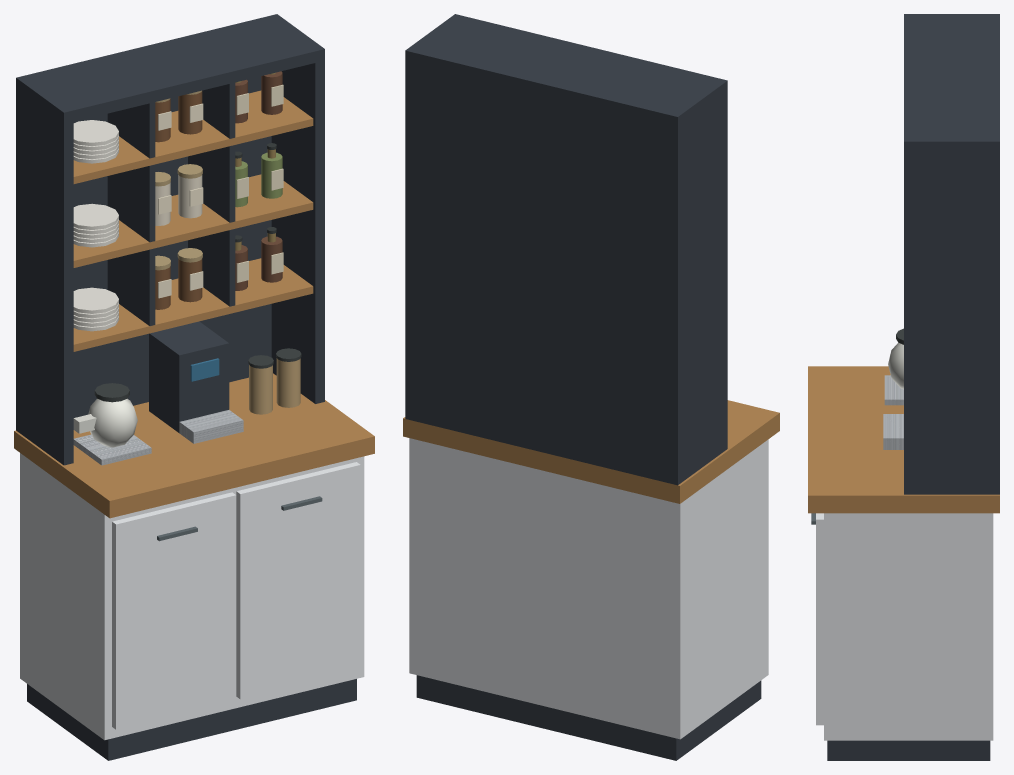
File: shelf-cafe-backbar.glb
3 renders of one model, left to right at view 1: azimuth 30°, elevation 25°; view 2: azimuth 150°, elevation 25°; view 3: azimuth 270°, elevation 25°, orthographic. The views are drawn at different scales.
Parts seen in each view (by area): view 1: backbar-lower-door (×2), backbar-side (×2), backbar-cabinet, backbar-worktop, backbar-stock-deck (×3), backbar-cap, backbar-cubby-divider (×6), backbar-back, backbar-plinth, backbar-prep-machine, stock-jars_e8e6de, stock-jars_815c3e (+11 smaller); view 2: backbar-back, backbar-cabinet, backbar-side (×2), backbar-cap, backbar-worktop, backbar-plinth; view 3: backbar-cabinet, backbar-side, backbar-worktop, backbar-cap, backbar-plinth, backbar-lower-door, backbar-prep-tray, stock-produce_e5e6de, backbar-kettle-base.
Part boxes in pixels (x1=…): backbar-lower-door (×2): x1=112, y1=462, x2=360, y2=729; backbar-side (×2): x1=16, y1=60, x2=324, y2=465; backbar-cabinet: x1=20, y1=453, x2=364, y2=740; backbar-worktop: x1=14, y1=373, x2=374, y2=518; backbar-stock-deck (×3): x1=73, y1=90, x2=313, y2=351; backbar-cap: x1=16, y1=14, x2=324, y2=124; backbar-cubby-divider (×6): x1=107, y1=82, x2=235, y2=325; backbar-back: x1=73, y1=76, x2=271, y2=417; backbar-plinth: x1=27, y1=679, x2=356, y2=760; backbar-prep-machine: x1=149, y1=321, x2=229, y2=432; stock-jars_e8e6de: x1=73, y1=120, x2=118, y2=331; stock-jars_815c3e: x1=155, y1=91, x2=202, y2=309; backbar-back: x1=415, y1=65, x2=667, y2=482; backbar-cabinet: x1=409, y1=438, x2=768, y2=739; backbar-side (×2): x1=405, y1=62, x2=727, y2=485; backbar-cap: x1=405, y1=14, x2=727, y2=128; backbar-worktop: x1=403, y1=400, x2=779, y2=503; backbar-plinth: x1=416, y1=675, x2=761, y2=760; backbar-cabinet: x1=824, y1=513, x2=993, y2=740; backbar-side: x1=904, y1=153, x2=999, y2=494; backbar-worktop: x1=808, y1=366, x2=999, y2=513; backbar-cap: x1=904, y1=14, x2=999, y2=152; backbar-plinth: x1=827, y1=740, x2=990, y2=760; backbar-lower-door: x1=816, y1=513, x2=823, y2=725; backbar-prep-tray: x1=883, y1=414, x2=903, y2=449; stock-produce_e5e6de: x1=888, y1=342, x2=903, y2=389; backbar-kettle-base: x1=884, y1=375, x2=903, y2=405.
Size of the model in its own units: 0.96 by 2.15 by 0.6.
Materials: 19 (1 with a texture image).
